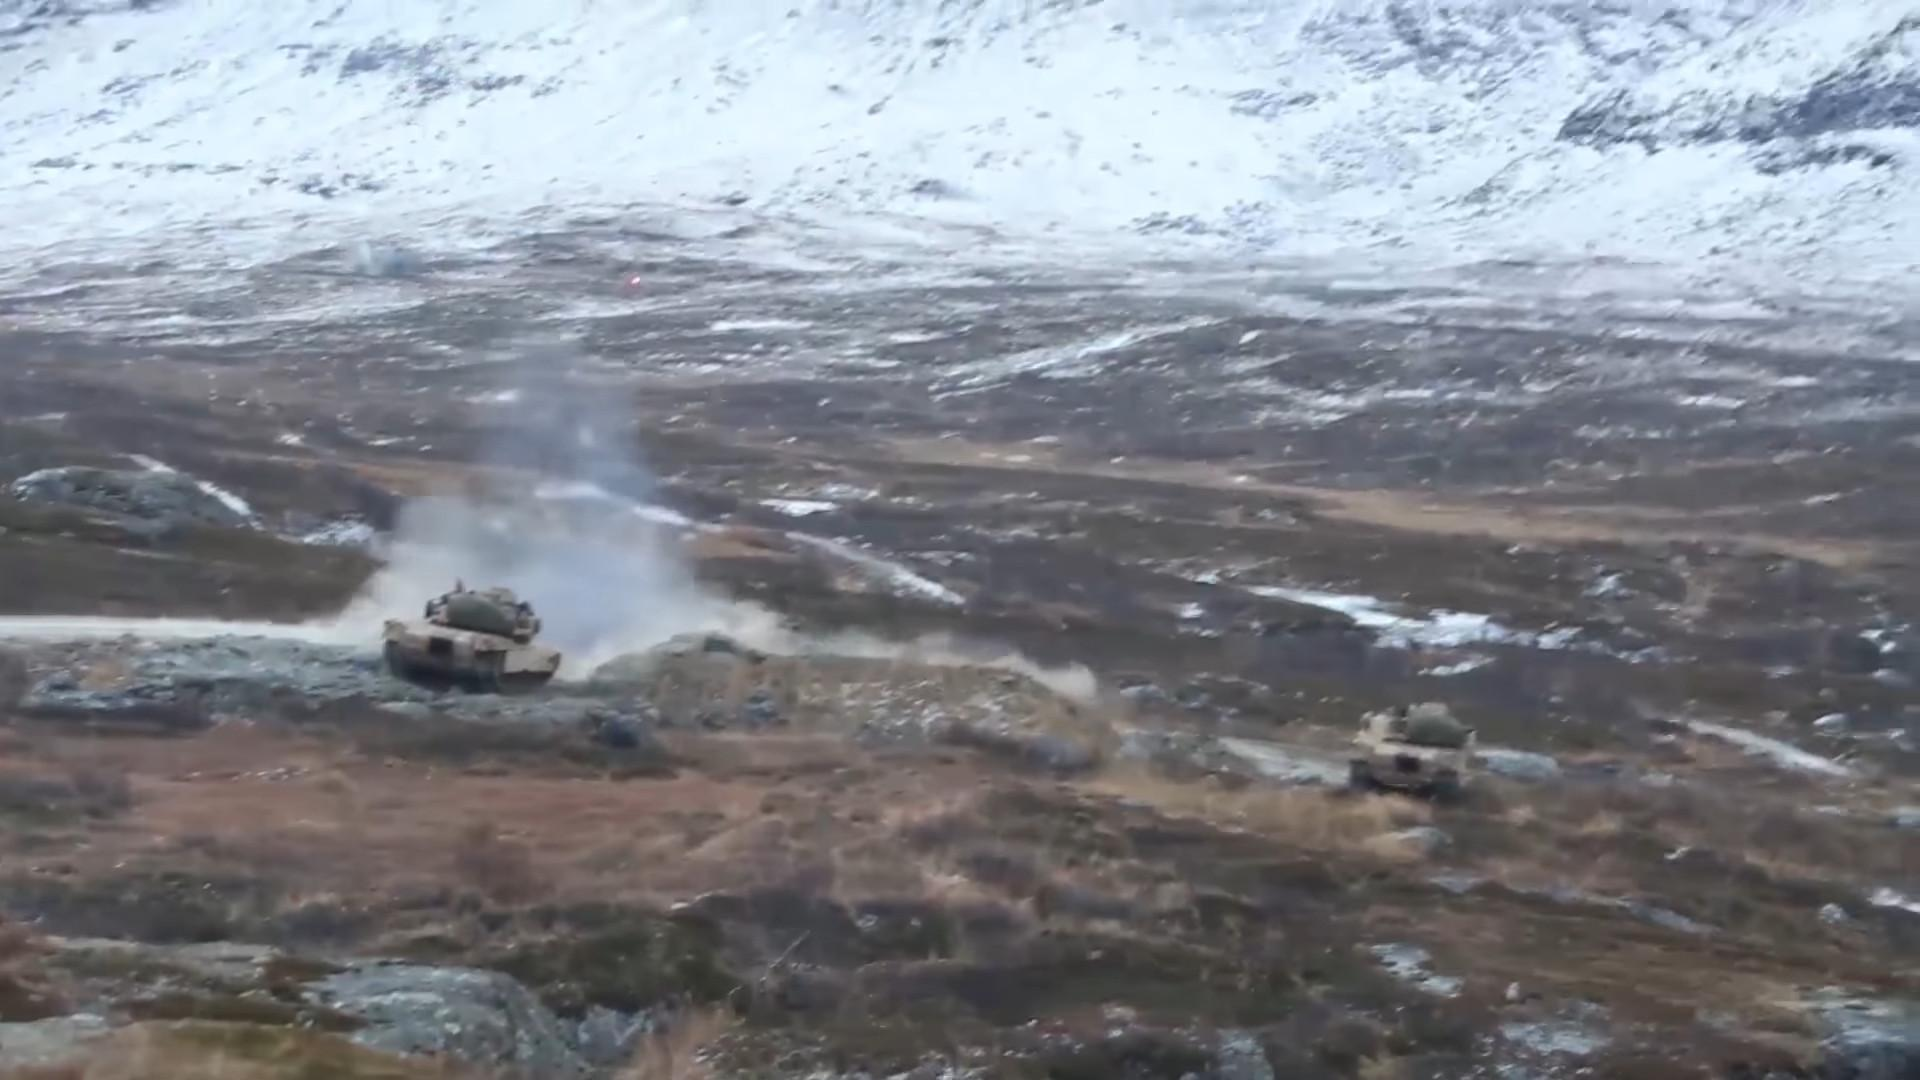tank: (388, 587, 560, 692), (1348, 704, 1476, 798)
